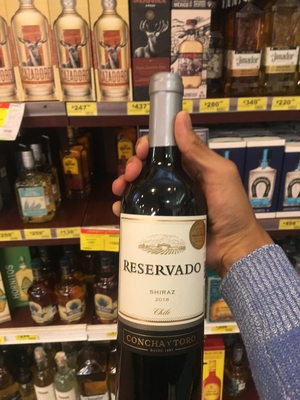reservado shiraz: (118, 71, 229, 400)
